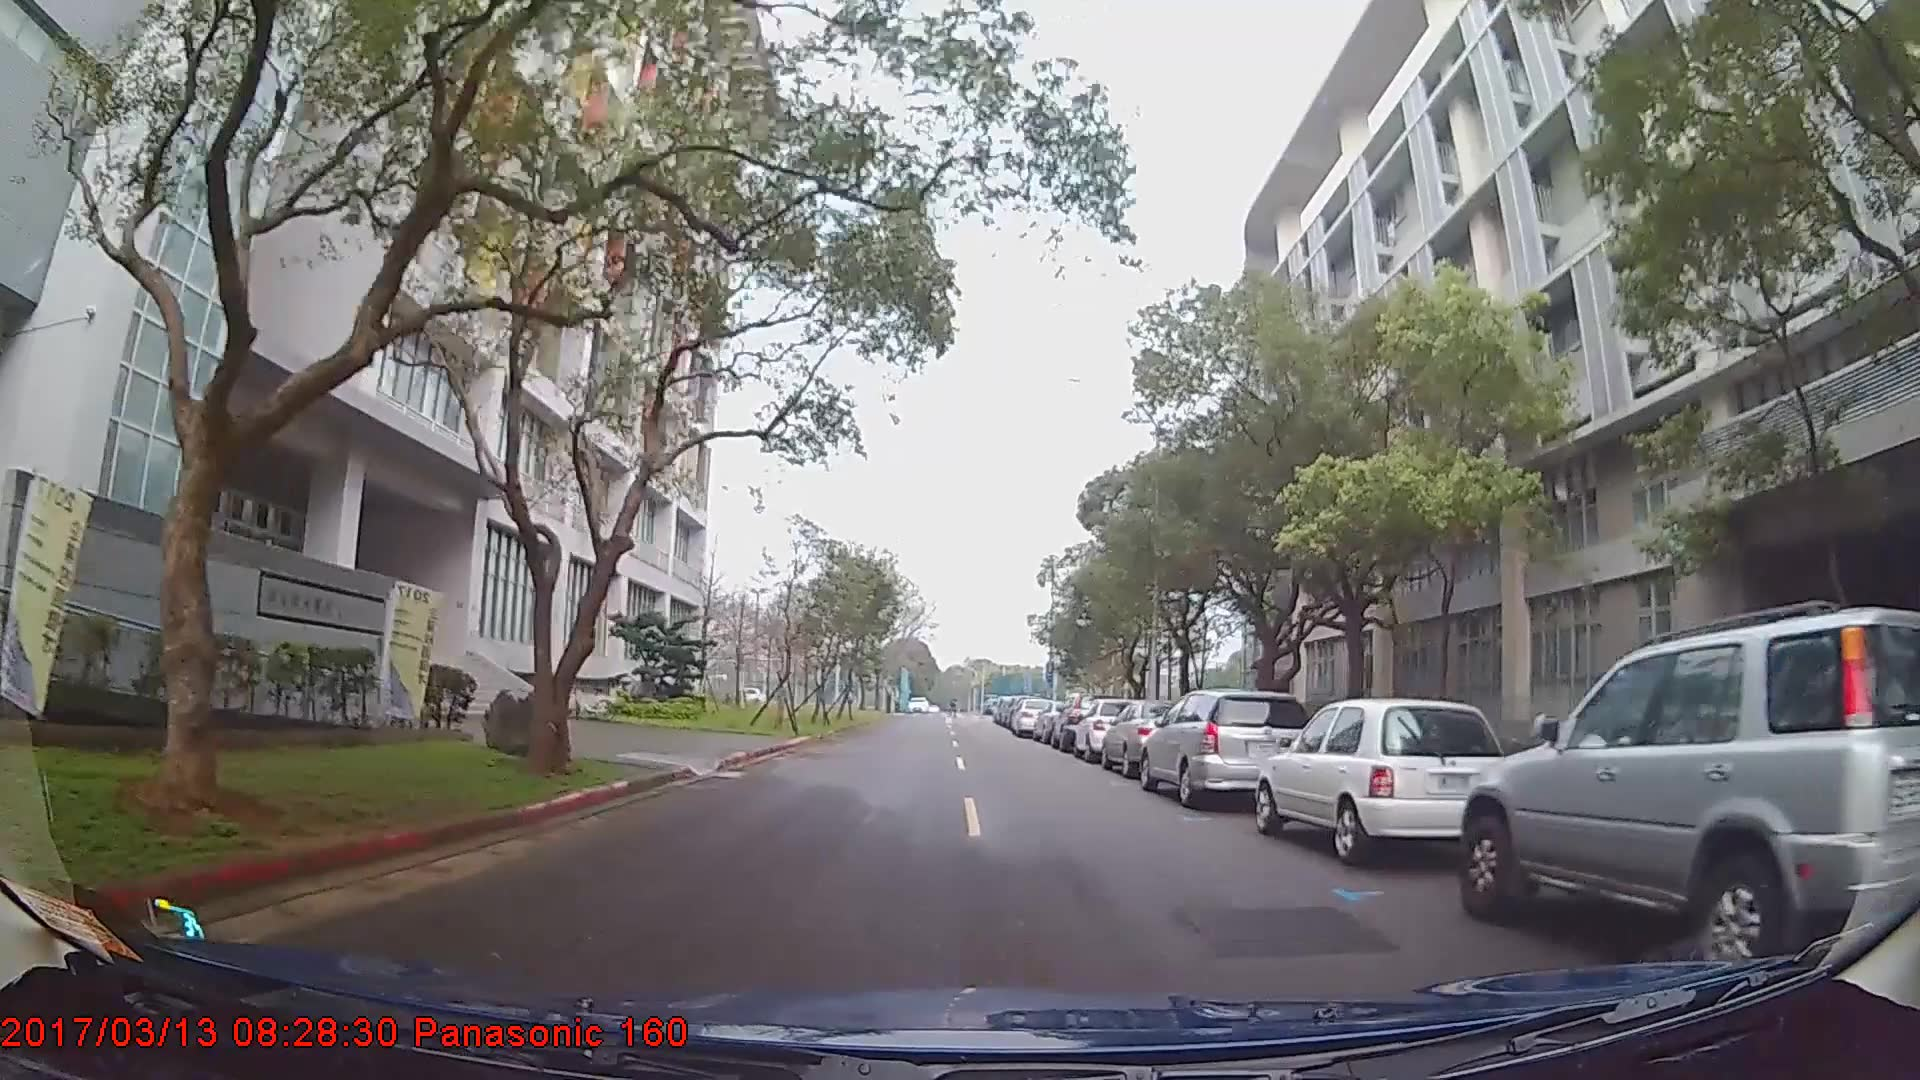vehicle: (1452, 603, 1920, 977), (1253, 694, 1513, 862), (1135, 688, 1316, 807), (1098, 694, 1199, 775), (1007, 694, 1055, 736)
